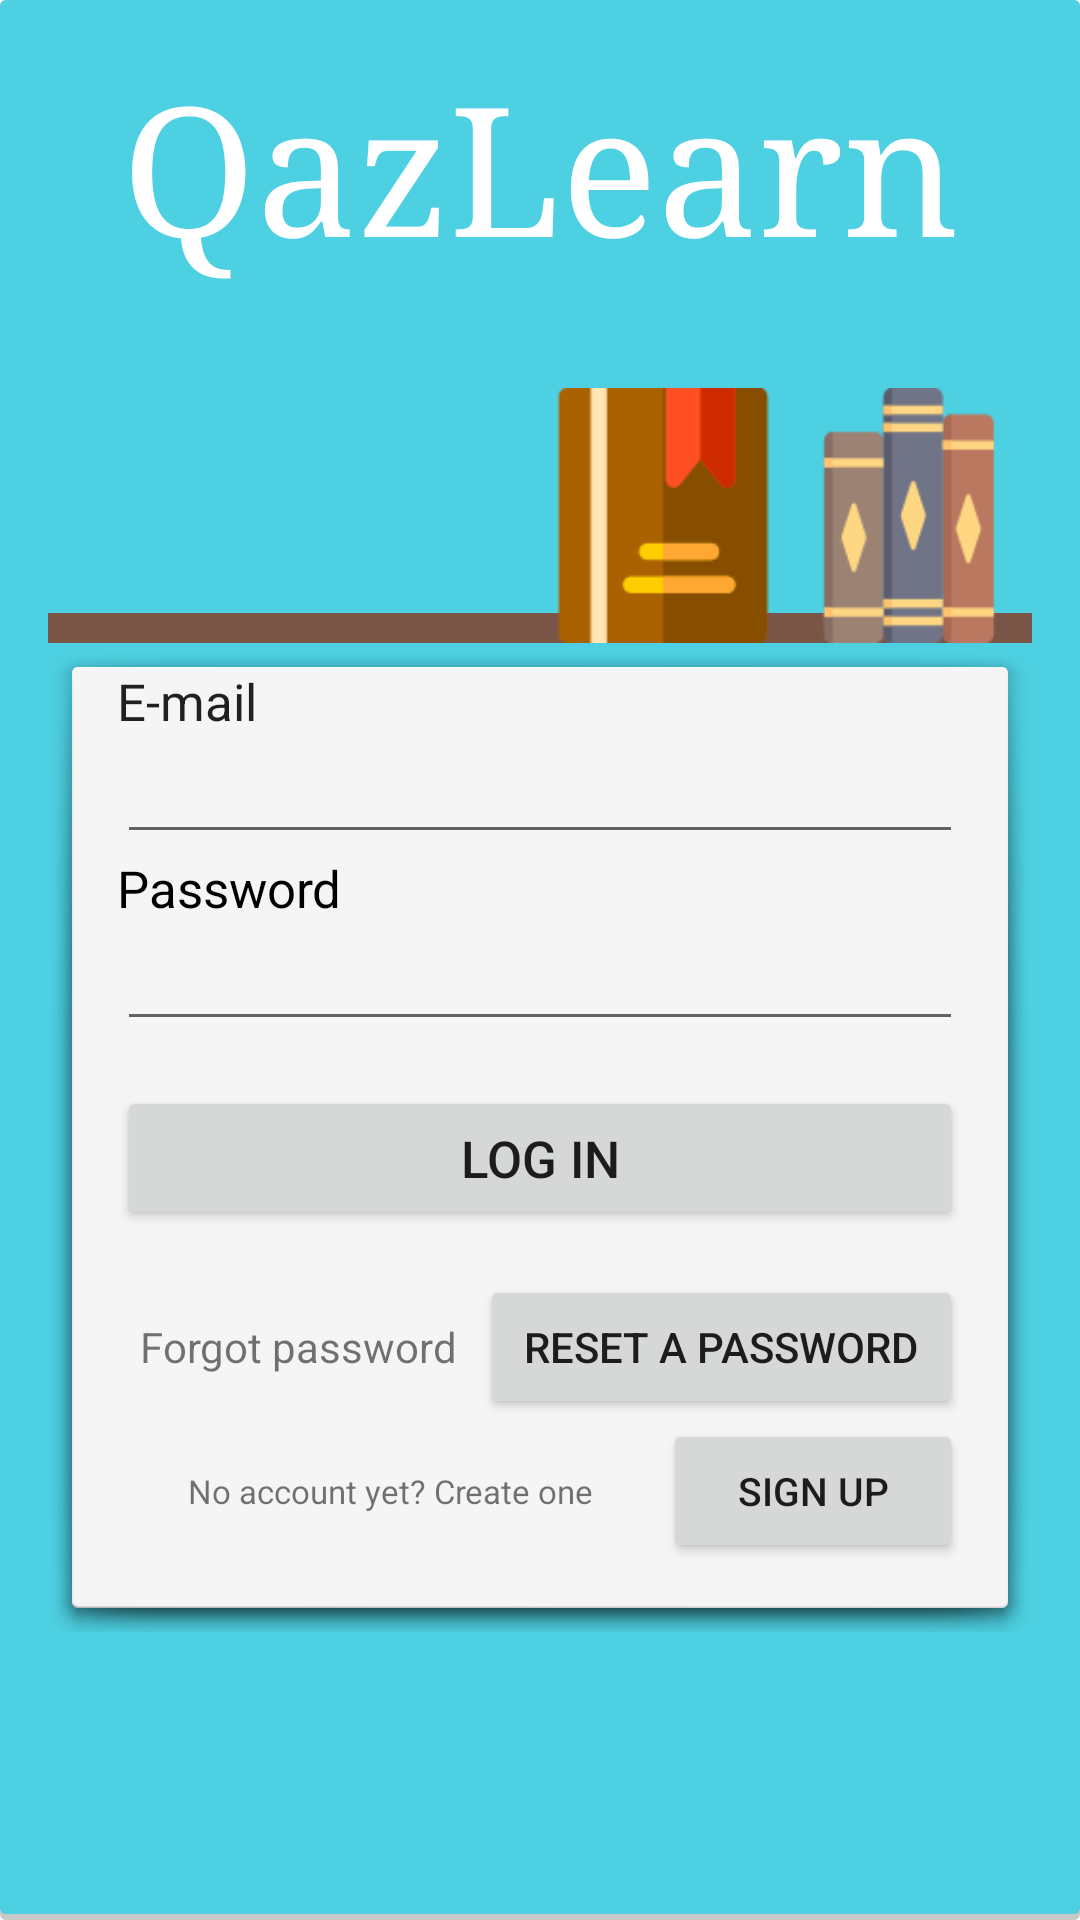

Icons on this 1080w x 1920h Android screen, each with the point to tap as (x,y):
books: (663,515), (909,515)
